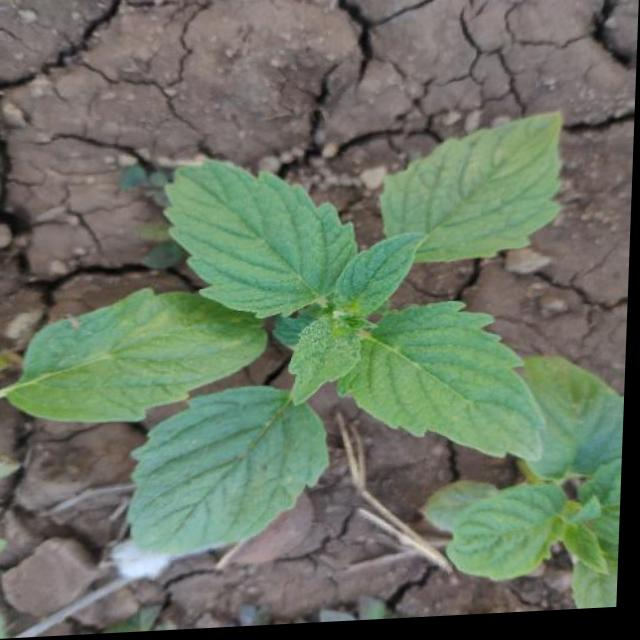crop: (24, 119, 636, 638)
